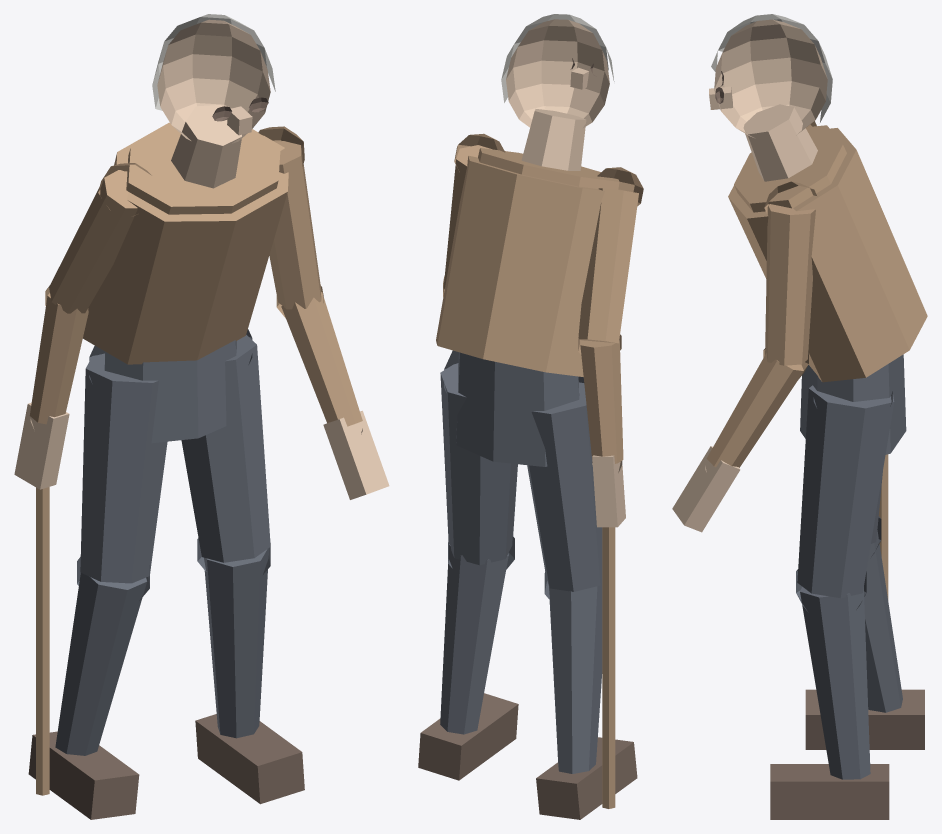
Rendered from low-poly-character-figures-elder-with-walking-stick-2f9acb47__36353.glb.
The picture shows the model from 3 angles, left to right: view 1: azimuth 30°, elevation 25°; view 2: azimuth 150°, elevation 25°; view 3: azimuth 270°, elevation 25°; orthographic projection. The views are drawn at different scales.
Parts seen in each view (by area): view 1: elder-with-walking-stick; view 2: elder-with-walking-stick; view 3: elder-with-walking-stick.
Part boxes in pixels (x1,y1,x2,y2): elder-with-walking-stick: (14, 14, 389, 819); elder-with-walking-stick: (418, 14, 643, 819); elder-with-walking-stick: (672, 14, 927, 819).
Size of the model in its own units: 0.5585 by 1.62 by 0.4921.
